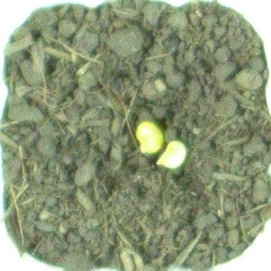pepper seed: (64, 56, 250, 225), (51, 40, 216, 196)
